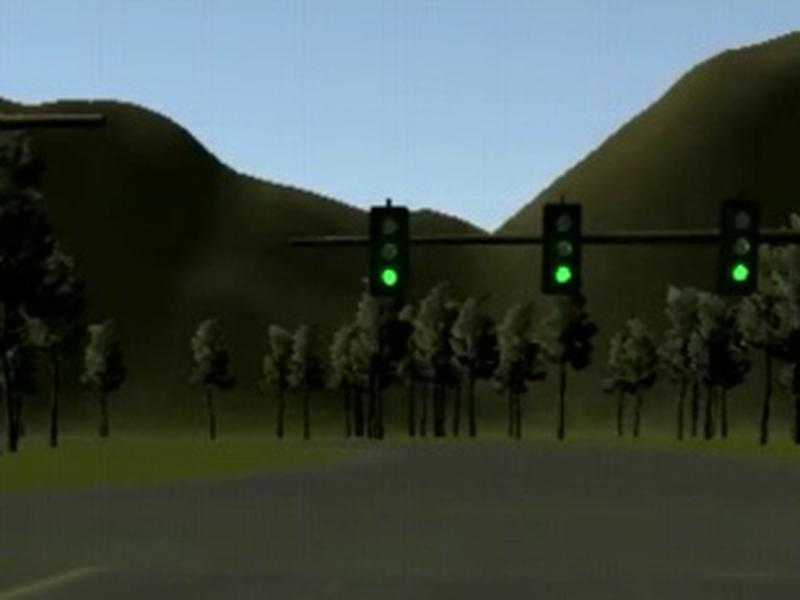Green: (718, 199, 758, 297), (543, 203, 582, 295), (370, 207, 410, 295)
